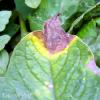Tomato Early blight leaf: (16, 10, 90, 95)
